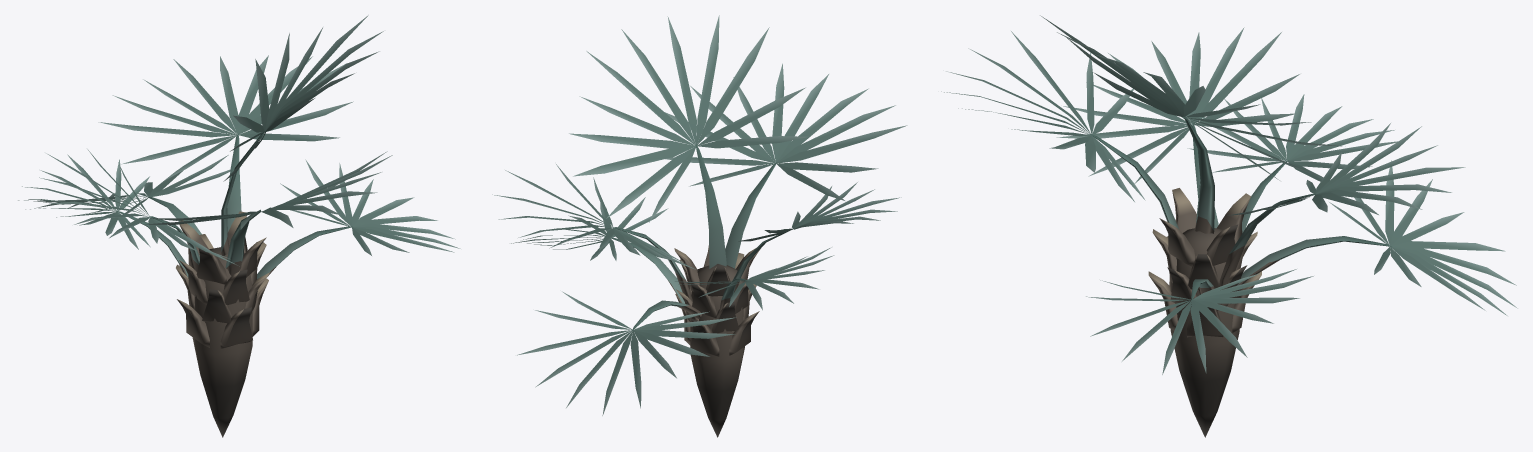
3 renders of one model, left to right at view 1: azimuth 30°, elevation 25°; view 2: azimuth 150°, elevation 25°; view 3: azimuth 270°, elevation 25°, orthographic. The views are drawn at different scales.
Visible parts, largest first — view 1: plant.022; view 2: plant.022; view 3: plant.022.
Part boxes in pixels (left/top/right/bottom): plant.022: left=18, top=15, right=460, bottom=437; plant.022: left=492, top=15, right=907, bottom=437; plant.022: left=941, top=15, right=1517, bottom=437.
Bounding box in the file's own units: 0.4352 × 0.4198 × 0.5.
